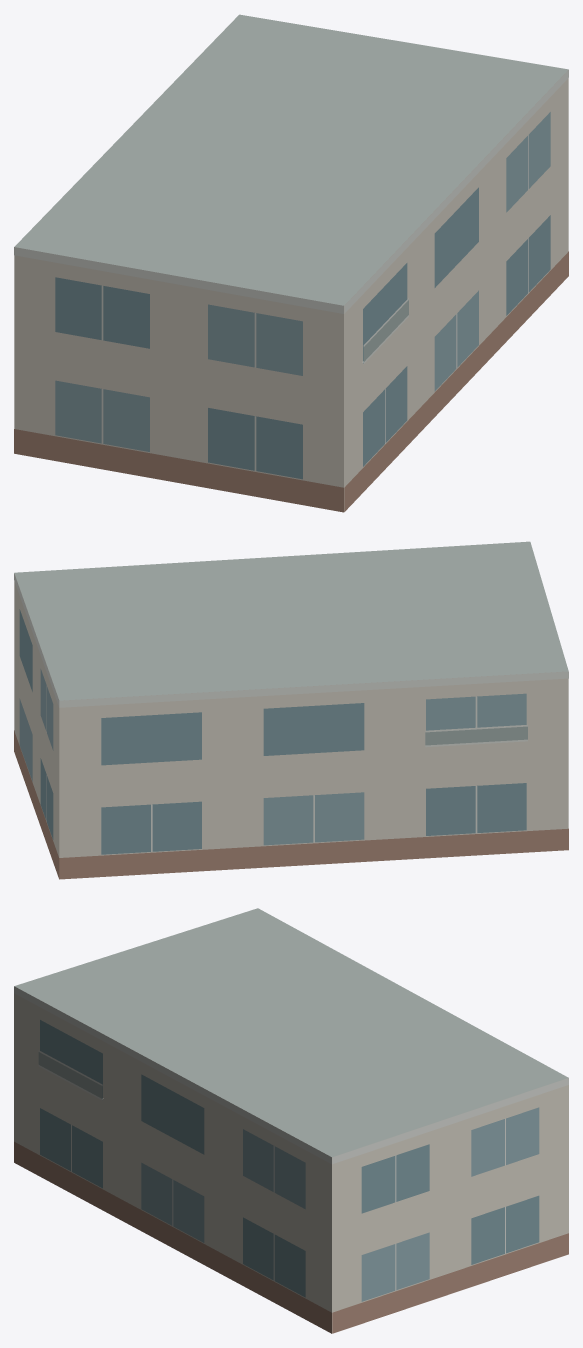
Rendered from survey-upis-32780494.glb.
3 views of the same model, one above another, from view 1: azimuth 30°, elevation 25°; view 2: azimuth 150°, elevation 25°; view 3: azimuth 270°, elevation 25° (orthographic). The views are drawn at different scales.
Parts seen in each view (by area): view 1: survey-upis-32780494.tmp; view 2: survey-upis-32780494.tmp; view 3: survey-upis-32780494.tmp.
Part boxes in pixels (<box>): survey-upis-32780494.tmp: <box>14,14,568,512</box>; survey-upis-32780494.tmp: <box>14,541,568,879</box>; survey-upis-32780494.tmp: <box>14,908,568,1333</box>.
Size of the model in its own units: 18.48 by 6.1 by 17.39.
